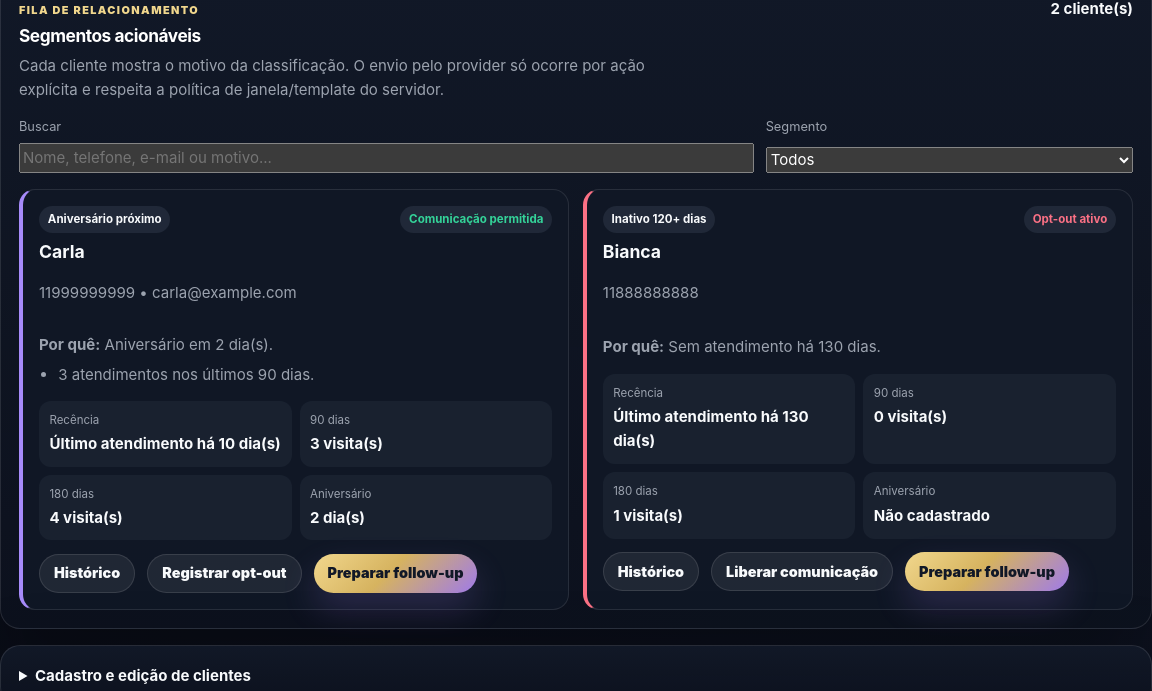
Test: CRMRetentionHub › envia follow-up pelo provider somente após confirmação do operador
(page scrolled)
Click the button "Preparar follow-up" below "Último atendimento há 10 dia(s)": click(396, 574) [314,554,478,593]
(page scrolled)
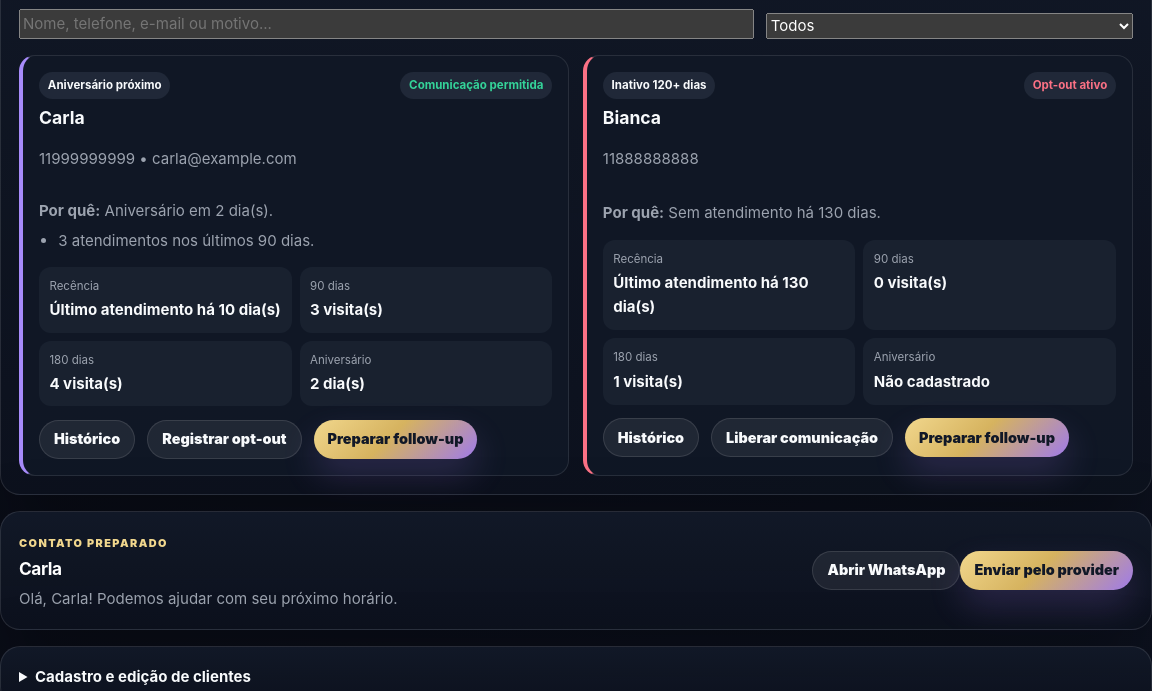
Click the button "Enviar pelo provider": click(1047, 570) [960,551,1133,590]
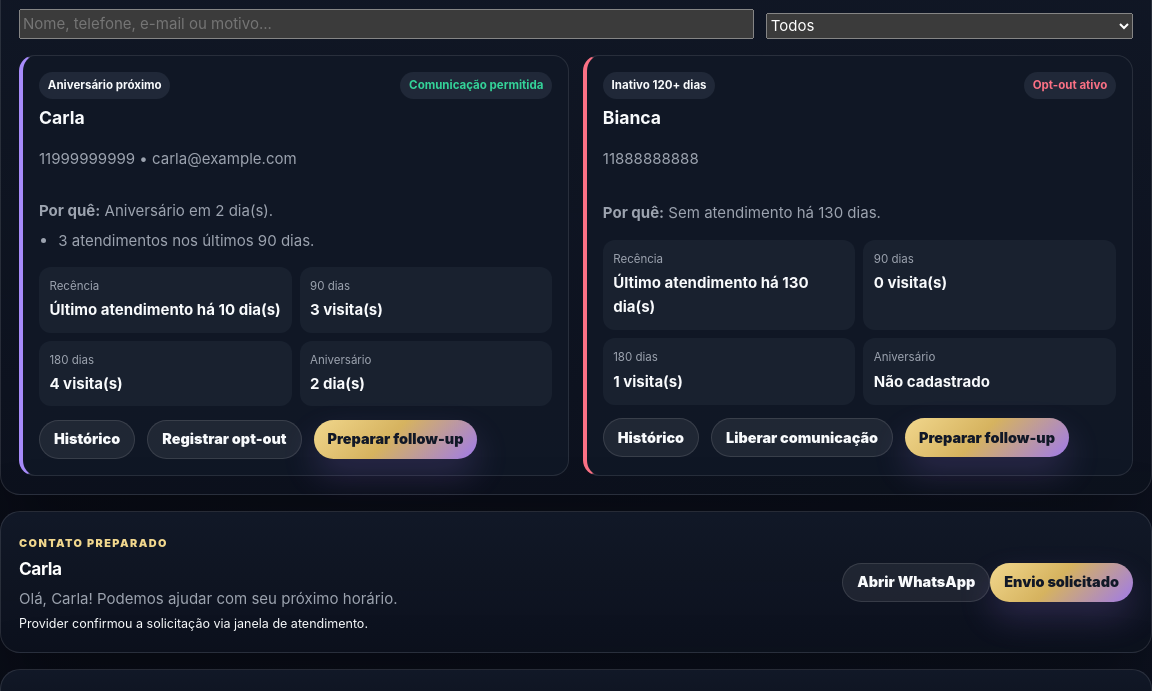
Expected: the text "Provider confirmou a solicitação via janela de atendimento." is shown, [19,616,368,631]
Expected: the button "Envio solicitado" is disabled, [990,563,1133,602]
